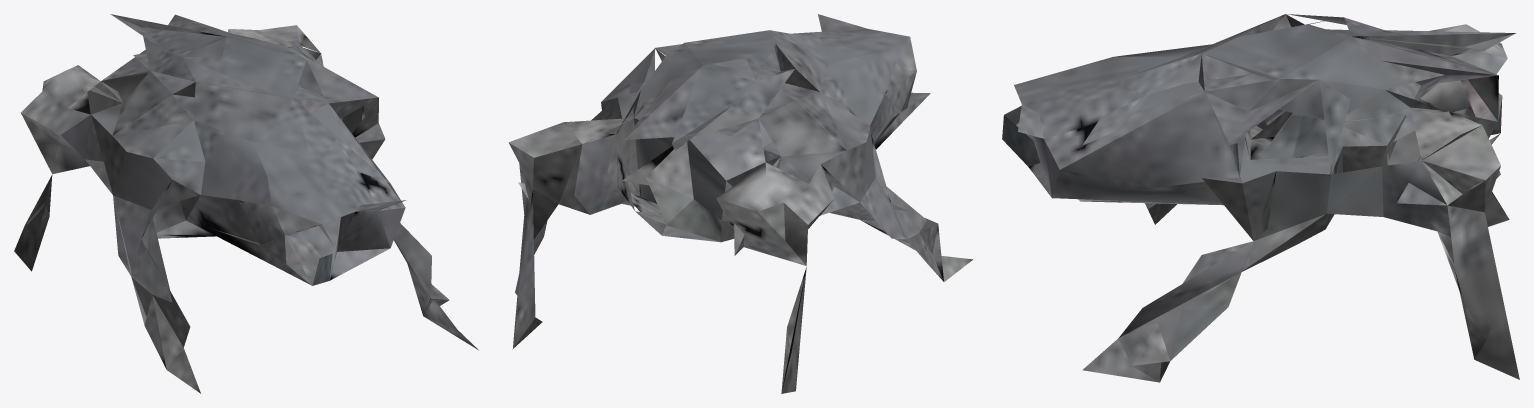
Rendered from enemy_turret_1035424432_lod1.glb.
The picture shows the model from 3 angles, left to right: view 1: azimuth 30°, elevation 25°; view 2: azimuth 150°, elevation 25°; view 3: azimuth 270°, elevation 25°; orthographic projection. The views are drawn at different scales.
Size of the model in its own units: 4.26 by 3.52 by 5.74.
1 material, 1 textured.
